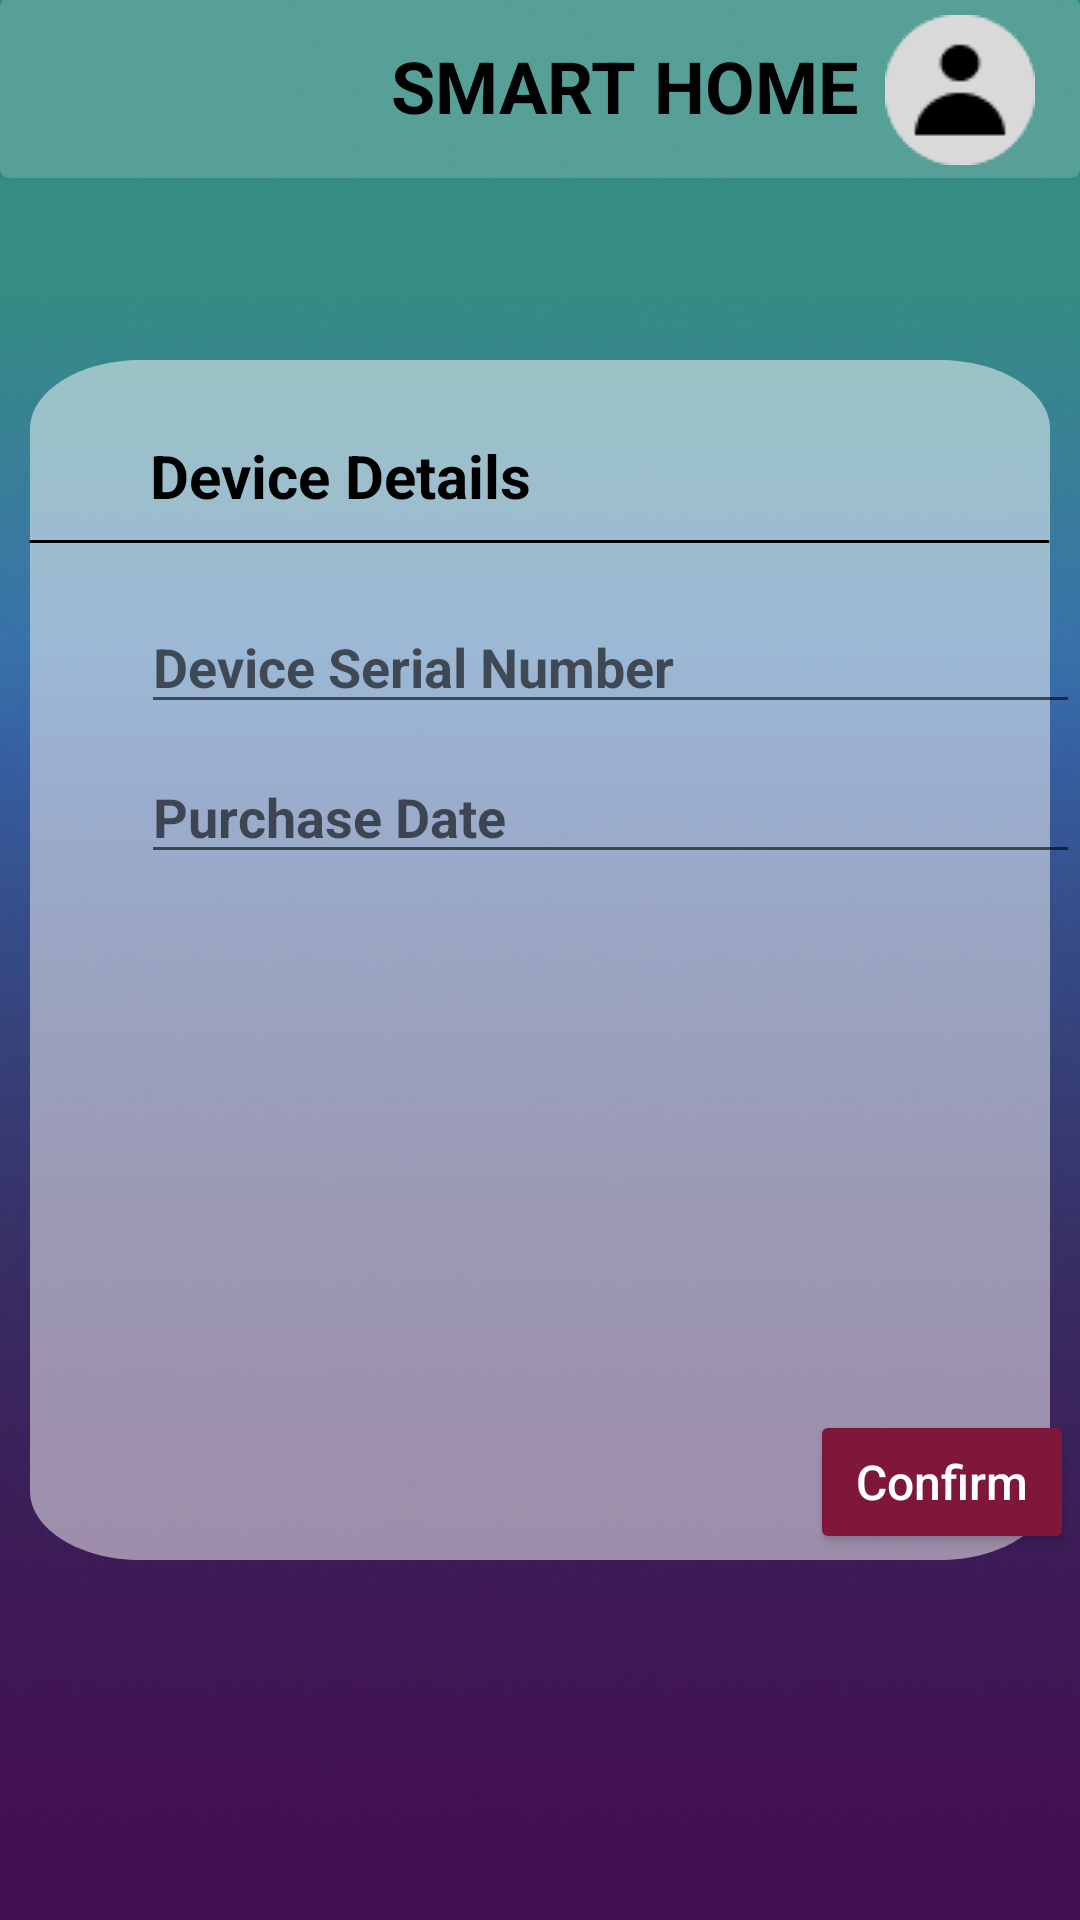

Icon bounding boxes for this 1080×1920 phone screenshot, format (x1, y1, x2, y2):
user: (885, 15, 1035, 165)
